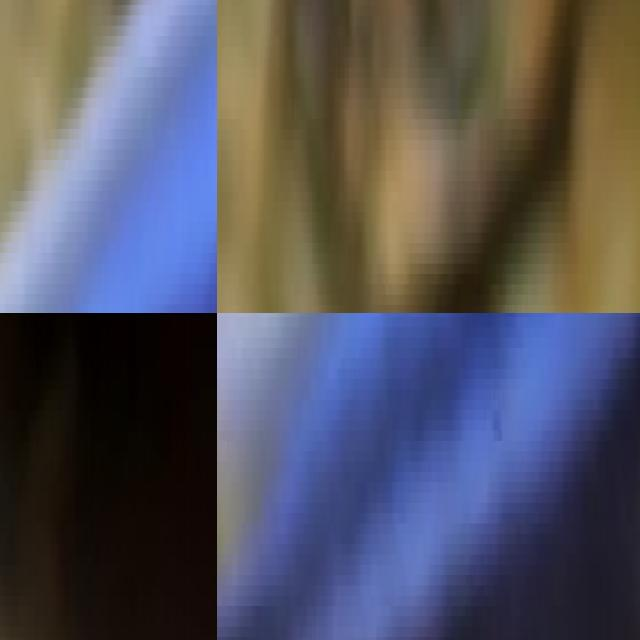fish: (0, 313, 217, 640), (0, 0, 217, 313)
